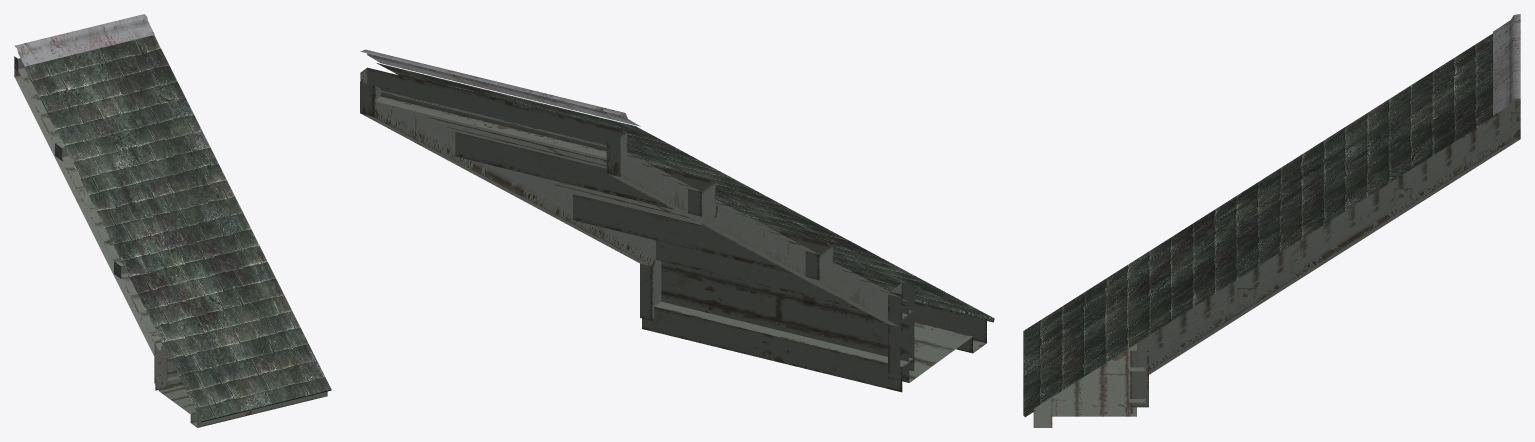
Rendered from SM_Roof400x200.FBX.
3 views of the same model, side by side, from view 1: azimuth 30°, elevation 25°; view 2: azimuth 150°, elevation 25°; view 3: azimuth 270°, elevation 25° (orthographic). The views are drawn at different scales.
Visible parts, largest first — view 1: SM_Roof400x200; view 2: SM_Roof400x200; view 3: SM_Roof400x200.
Part boxes in pixels (x1,y1,x2,y2): SM_Roof400x200: (14,14,331,427); SM_Roof400x200: (360,49,994,392); SM_Roof400x200: (1023,14,1520,427).
Size of the model in its own units: 200 by 364 by 498.
